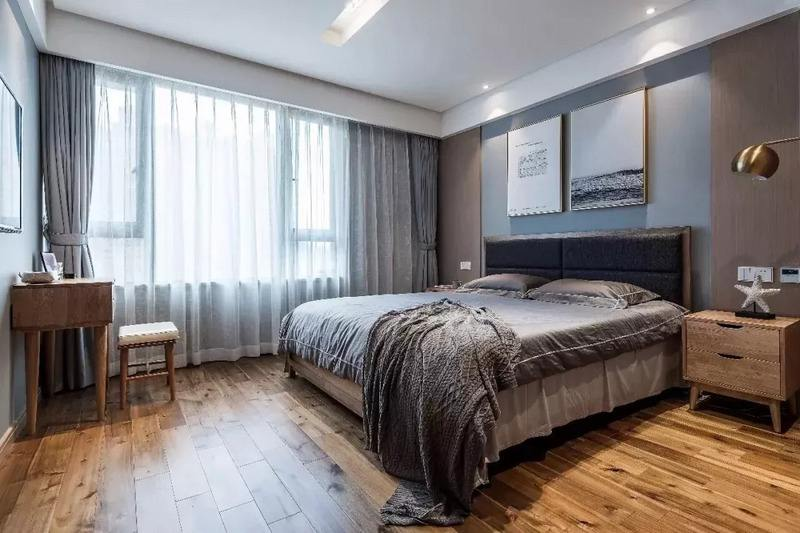床: (298, 288, 671, 484)
枕头: (469, 273, 658, 311)
灯: (726, 140, 786, 185), (637, 7, 658, 19), (478, 84, 494, 97)
